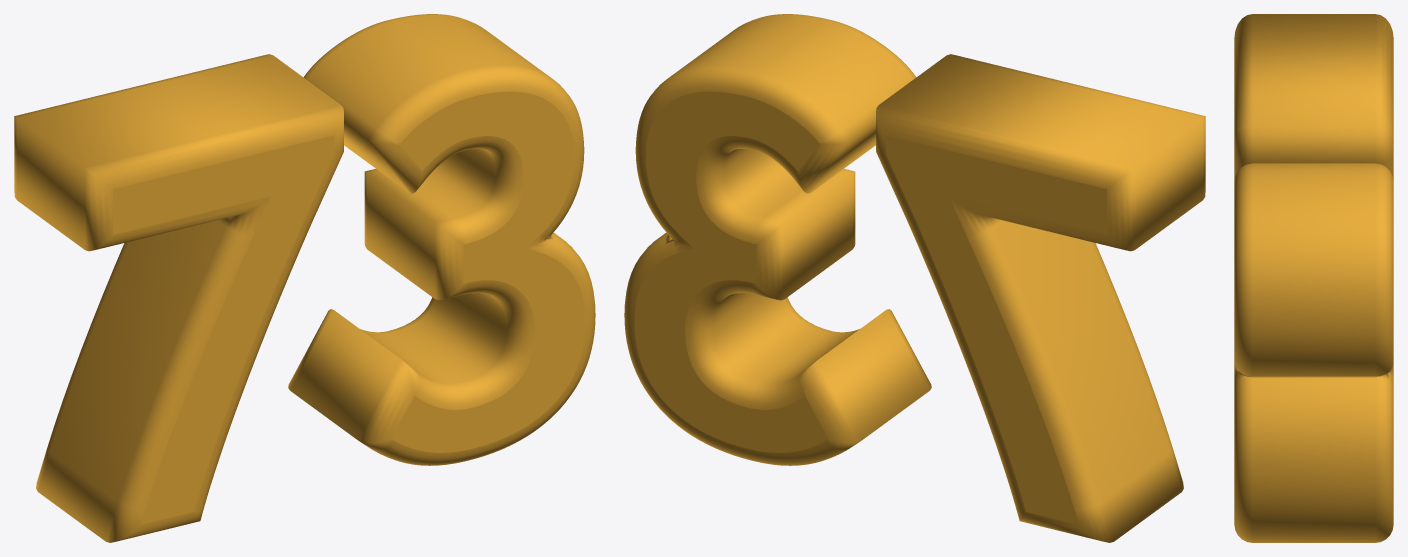
3 renders of one model, left to right at view 1: azimuth 30°, elevation 25°; view 2: azimuth 150°, elevation 25°; view 3: azimuth 270°, elevation 25°, orthographic. The views are drawn at different scales.
Parts seen in each view (by area): view 1: Text; view 2: Text; view 3: Text.
Boxes of the visible parts, x1,y1,x2,y2 form: Text: (14,14,595,542); Text: (624,14,1205,542); Text: (1234,14,1393,542).
Bounding box in the file's own units: 86.11 × 63.02 × 26.
